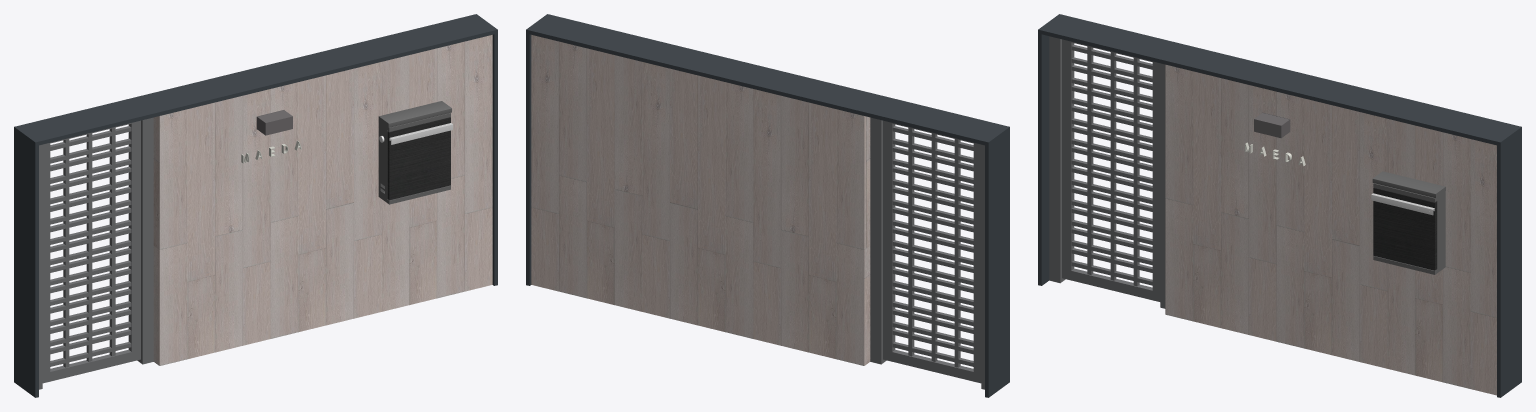
File: ab12-m_mat-l-grey_pinewhite.fbx
3 views of the same model, side by side, from view 1: azimuth 30°, elevation 25°; view 2: azimuth 150°, elevation 25°; view 3: azimuth 330°, elevation 25° (orthographic).
Parts seen in each view (by area): view 1: ab12-m_mat-l-grey_pinewhite; view 2: ab12-m_mat-l-grey_pinewhite; view 3: ab12-m_mat-l-grey_pinewhite.
Boxes of the visible parts, left/top/right/bottom form: ab12-m_mat-l-grey_pinewhite: left=14, top=14, right=497, bottom=397; ab12-m_mat-l-grey_pinewhite: left=526, top=14, right=1009, bottom=397; ab12-m_mat-l-grey_pinewhite: left=1038, top=14, right=1521, bottom=397.
Size of the model in its own units: 250 by 132 by 30.61.
Materials: 13 (4 with a texture image).
